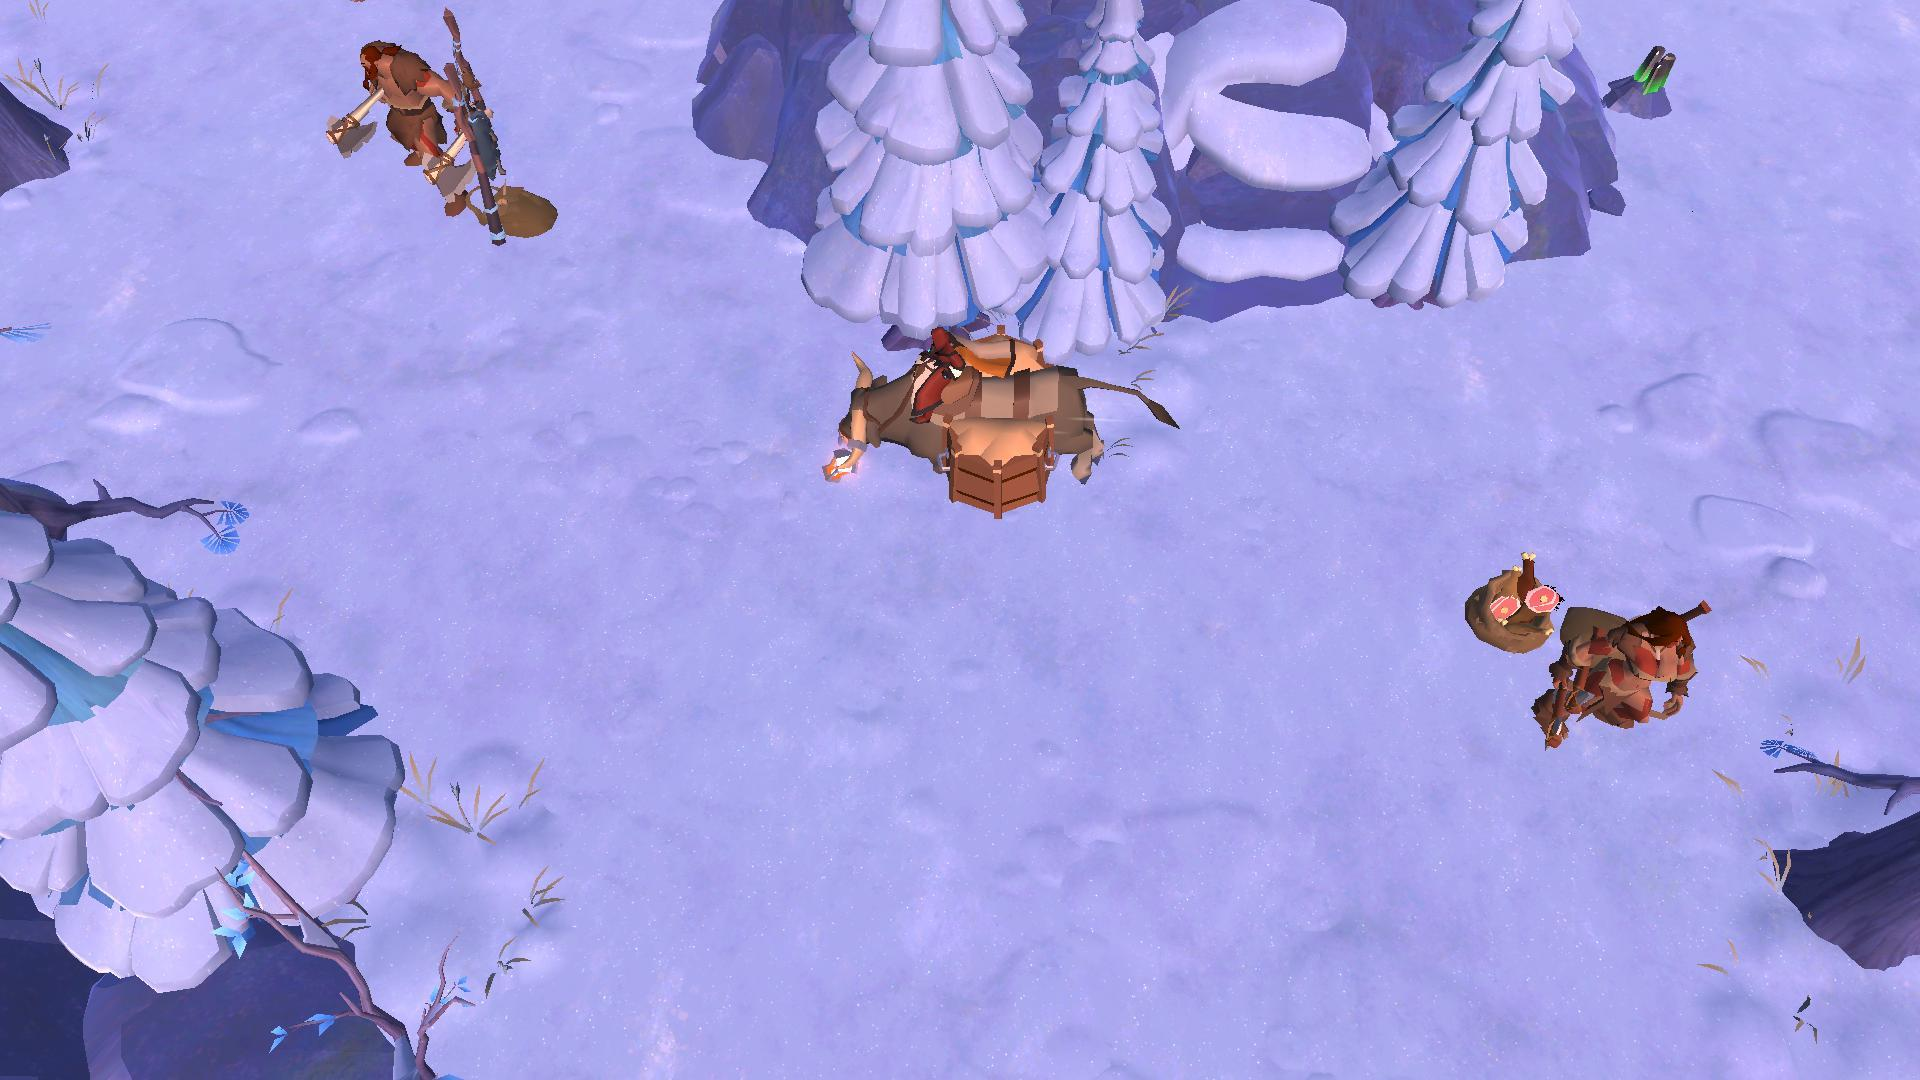enemy_factionKeeper: (324, 17, 462, 220), (1553, 595, 1709, 758)
ore_t3: (1626, 37, 1676, 103)
